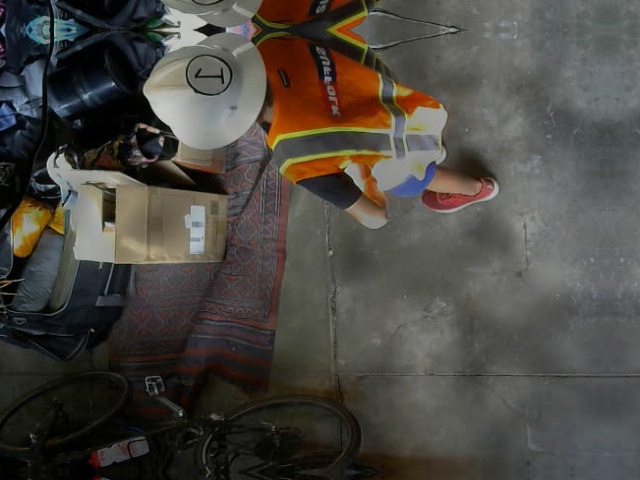one: (185, 54, 232, 95)
